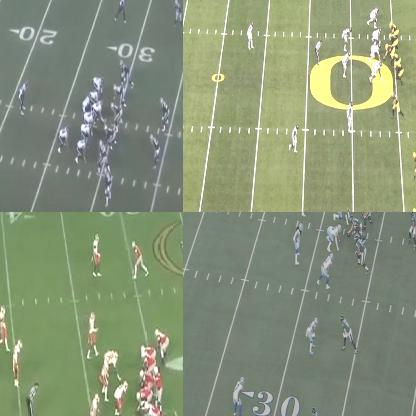CENTER: (135, 385, 153, 414), (95, 99, 105, 124), (350, 217, 361, 235), (384, 42, 394, 61)
DB: (307, 314, 320, 354), (231, 377, 244, 415), (12, 337, 22, 385), (90, 235, 100, 278), (0, 305, 9, 349), (104, 166, 112, 207), (174, 0, 182, 29), (291, 125, 299, 151), (248, 21, 254, 51)
LB: (321, 254, 334, 289), (88, 313, 98, 358), (101, 359, 112, 399), (148, 134, 161, 166), (295, 225, 303, 265), (160, 98, 170, 127), (346, 101, 354, 131), (90, 395, 101, 415), (342, 26, 351, 49), (343, 50, 350, 76), (369, 7, 378, 26)
QB: (154, 368, 164, 404), (408, 212, 415, 245), (82, 91, 91, 112)
SKILL: (130, 240, 146, 278), (155, 328, 169, 360), (343, 316, 355, 349), (390, 89, 403, 117), (120, 58, 130, 87), (76, 136, 87, 159), (98, 139, 107, 166), (117, 0, 128, 22), (19, 81, 27, 111), (141, 343, 155, 358), (60, 124, 68, 150), (311, 407, 326, 415), (412, 150, 415, 182)
